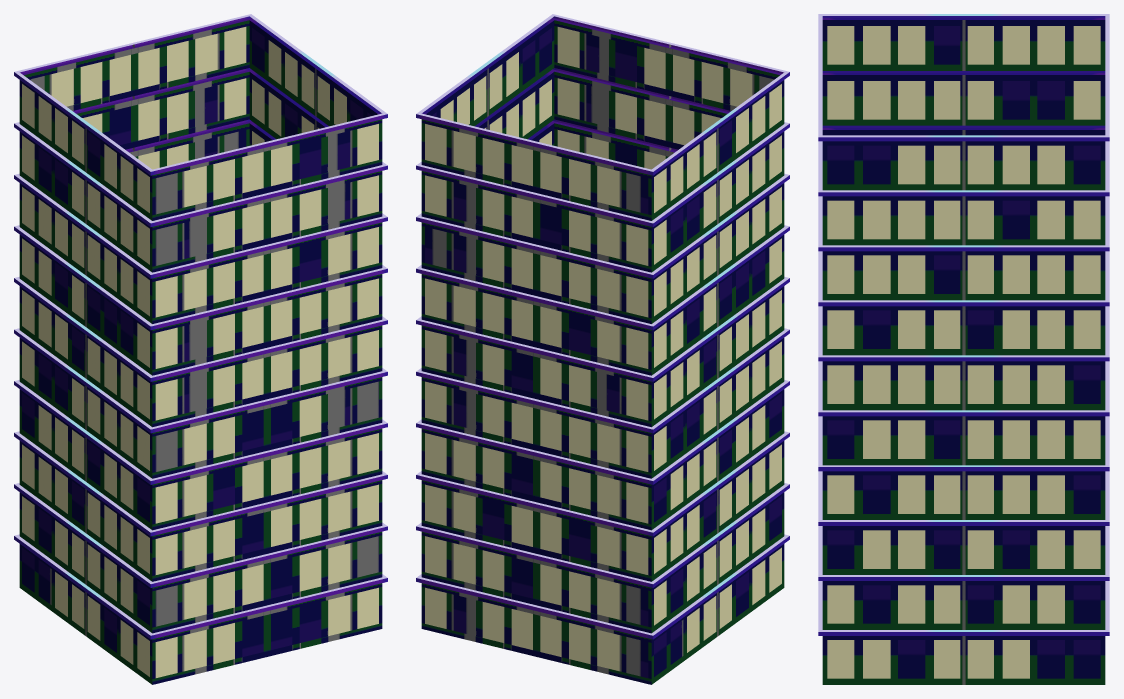
The model's file is 3D_Map_Building-Whole.fbx.
3 views of the same model, side by side, from view 1: azimuth 30°, elevation 25°; view 2: azimuth 150°, elevation 25°; view 3: azimuth 270°, elevation 25° (orthographic). The views are drawn at different scales.
Parts seen in each view (by area): view 1: GEO_Building-Whole_001; view 2: GEO_Building-Whole_001; view 3: GEO_Building-Whole_001.
Boxes of the visible parts, x1,y1,x2,y2 form: GEO_Building-Whole_001: (14,14,387,684); GEO_Building-Whole_001: (416,14,789,684); GEO_Building-Whole_001: (818,14,1109,684).
Bounding box in the file's own units: 21.67 × 21.64 × 45.
